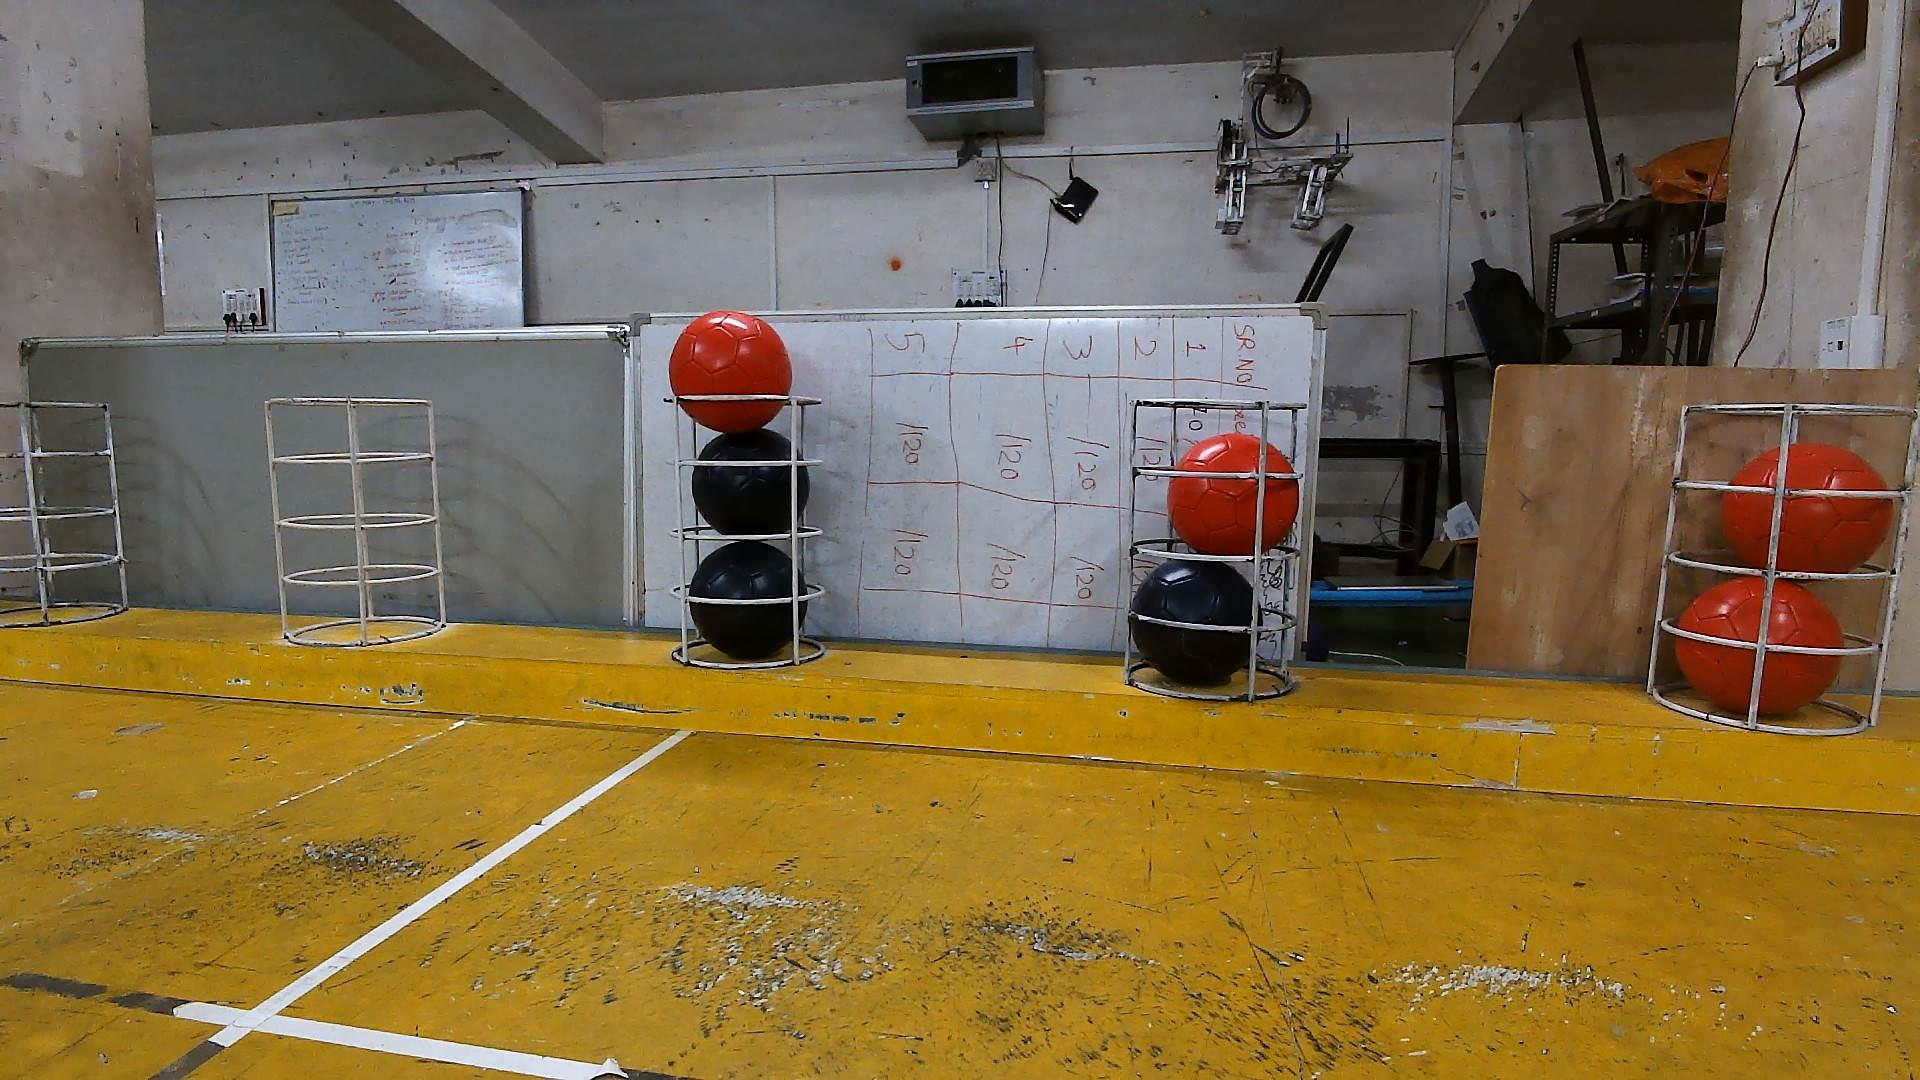dhoka: (1129, 559, 1263, 686), (698, 541, 818, 661), (690, 423, 806, 537)
laale: (1676, 583, 1845, 719), (1721, 443, 1894, 574), (1166, 431, 1302, 555), (667, 311, 791, 431)
